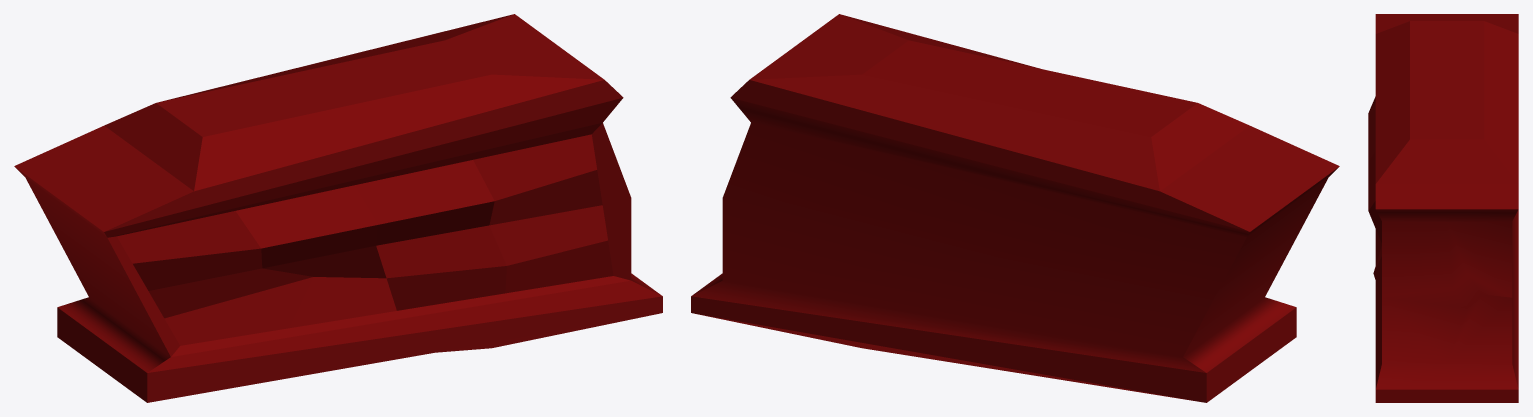
File: Bad Seal.fbx
3 renders of one model, left to right at view 1: azimuth 30°, elevation 25°; view 2: azimuth 150°, elevation 25°; view 3: azimuth 270°, elevation 25°, orthographic. The views are drawn at different scales.
Visible parts, largest first — view 1: pCube1; view 2: pCube1; view 3: pCube1.
Part boxes in pixels (<box>): pCube1: <box>14,14,662,402</box>; pCube1: <box>691,14,1339,402</box>; pCube1: <box>1368,14,1518,402</box>.
Bounding box in the file's own units: 19.69 × 9.48 × 5.77.
1 material, 1 textured.
